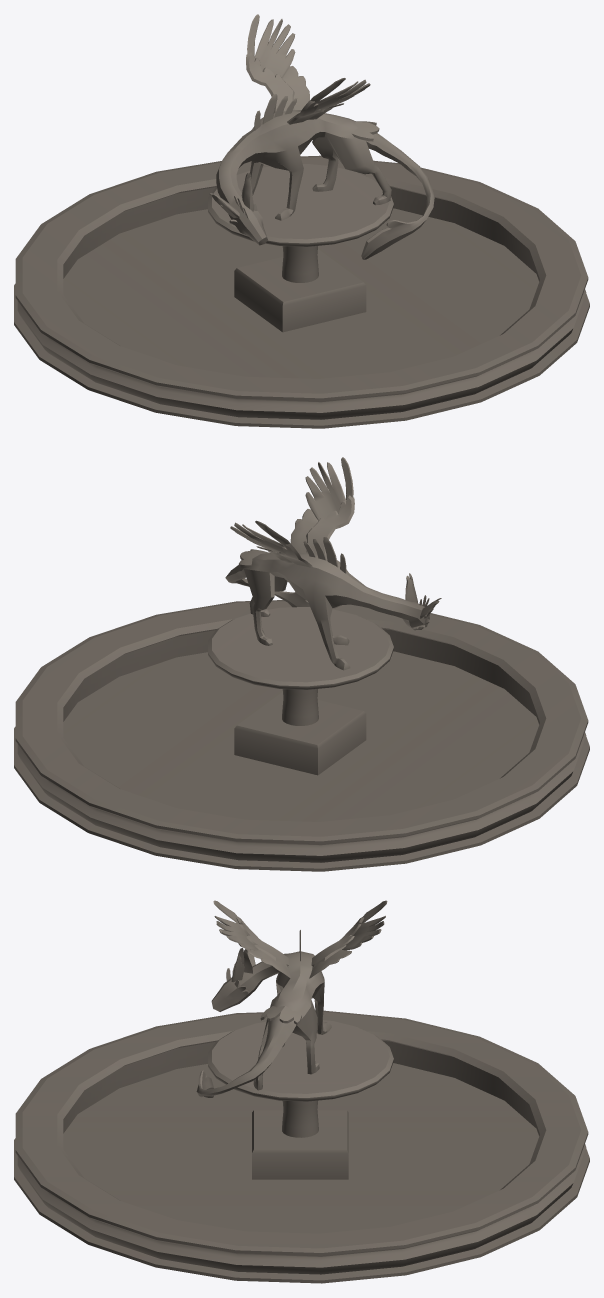
Rendered from Brunnen.fbx.
The picture shows the model from 3 angles, top to bottom: view 1: azimuth 30°, elevation 25°; view 2: azimuth 150°, elevation 25°; view 3: azimuth 270°, elevation 25°; orthographic projection.
Visible parts, largest first — view 1: Brunnen, Body; view 2: Brunnen, Body; view 3: Brunnen, Body.
Part boxes in pixels (left/top/right/bottom): Brunnen: left=14, top=155, right=589, bottom=428; Body: left=209, top=14, right=434, bottom=259; Brunnen: left=14, top=600, right=589, bottom=871; Body: left=225, top=457, right=441, bottom=670; Brunnen: left=14, top=1010, right=589, bottom=1283; Body: left=196, top=900, right=387, bottom=1097.
Size of the model in its own units: 1049 by 522 by 1046.
